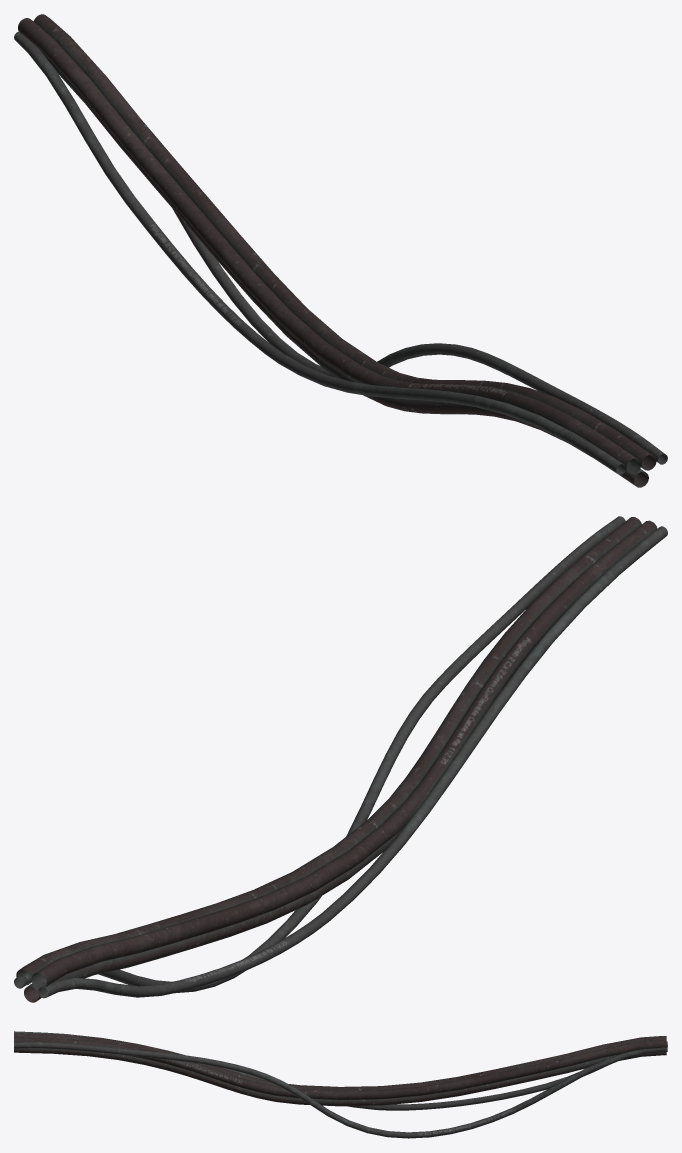
File: SM_Cable_Set_01b.fbx
3 renders of one model, top to bottom at view 1: azimuth 30°, elevation 25°; view 2: azimuth 150°, elevation 25°; view 3: azimuth 270°, elevation 25°, orthographic. The views are drawn at different scales.
Visible parts, largest first — view 1: SM_Cable_Set_01b_LOD0; view 2: SM_Cable_Set_01b_LOD0; view 3: SM_Cable_Set_01b_LOD0.
Boxes of the visible parts, x1=… form: SM_Cable_Set_01b_LOD0: x1=14, y1=14, x2=667, y2=487; SM_Cable_Set_01b_LOD0: x1=14, y1=516, x2=667, y2=1002; SM_Cable_Set_01b_LOD0: x1=14, y1=1031, x2=667, y2=1138.
Bounding box in the file's own units: 10.87 × 201 × 32.83.
